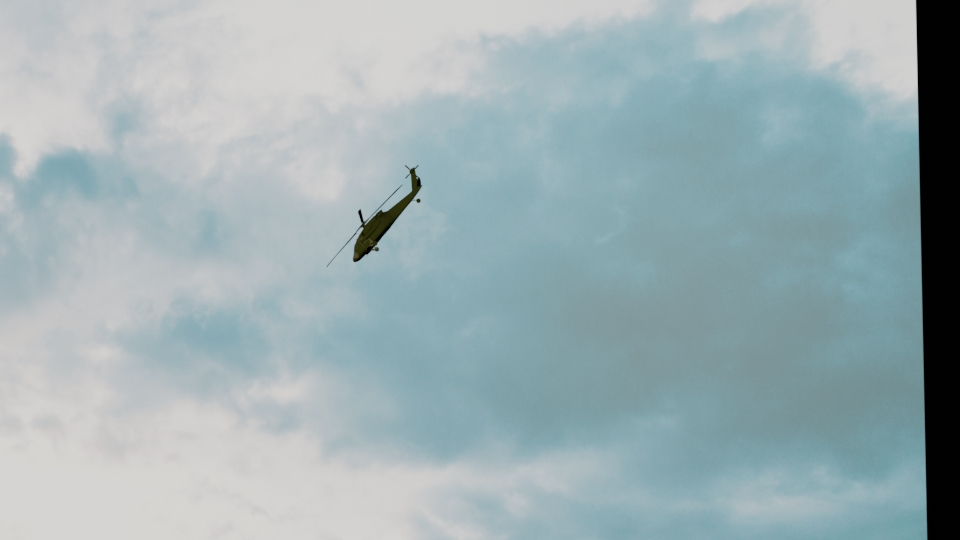heli: (349, 162, 421, 262)
